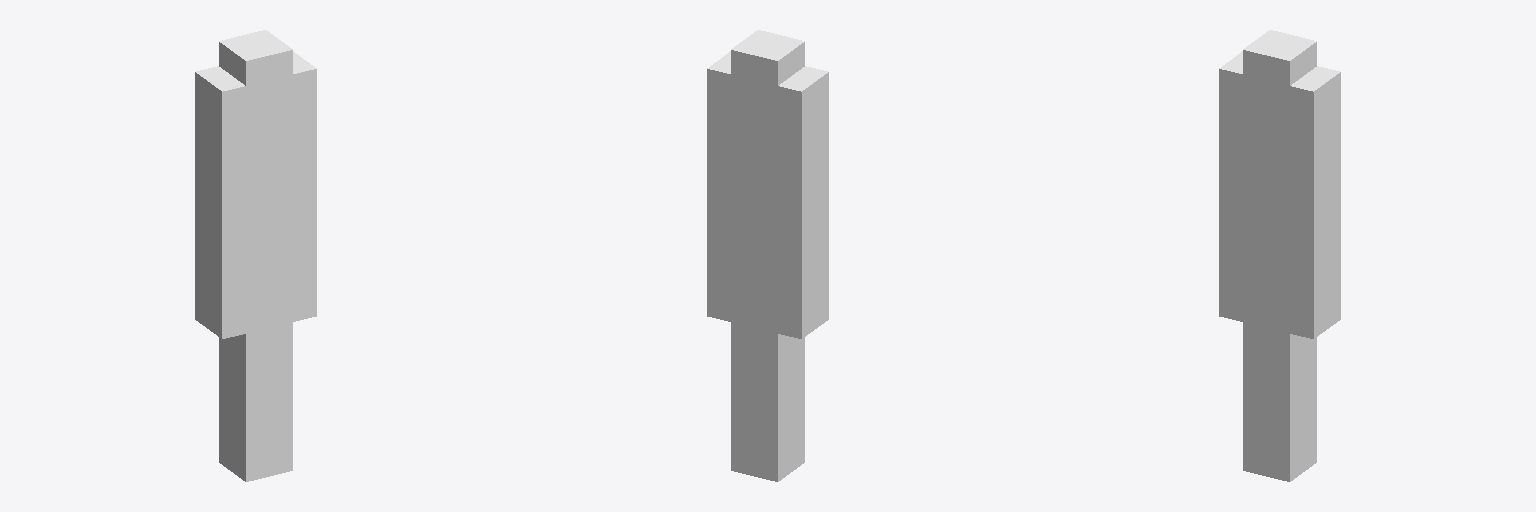
The model's file is dagger-00.obj.
3 views of the same model, side by side, from view 1: azimuth 30°, elevation 25°; view 2: azimuth 150°, elevation 25°; view 3: azimuth 330°, elevation 25° (orthographic).
Bounding box in the file's own units: 4 × 17 × 2.